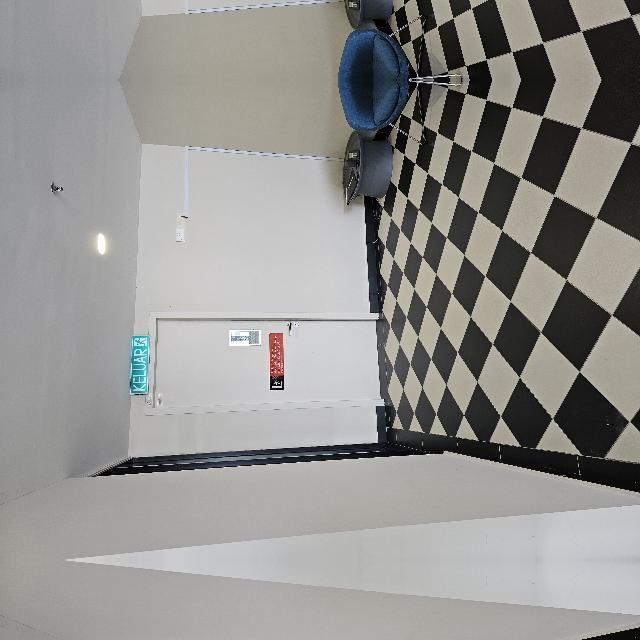obstacle: (416, 418, 480, 528), (358, 423, 422, 481), (415, 591, 480, 640), (358, 639, 421, 640)
